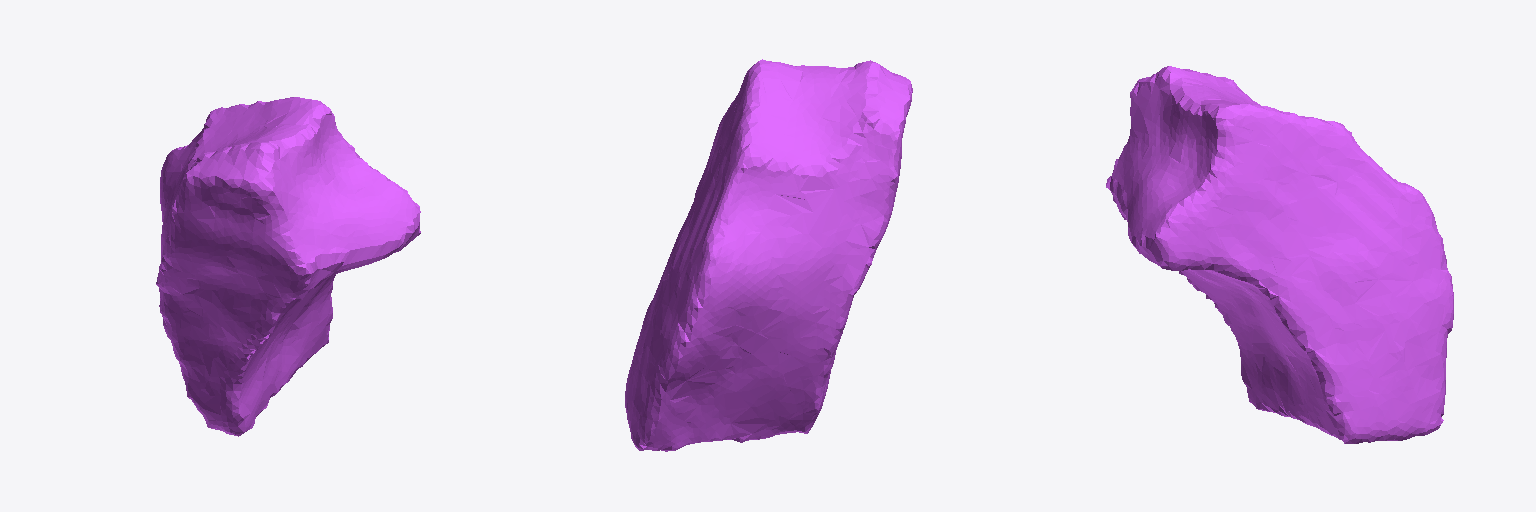
File: Model_128_RH__Temporal_area_TE1_(TE1).obj
3 views of the same model, side by side, from view 1: azimuth 30°, elevation 25°; view 2: azimuth 150°, elevation 25°; view 3: azimuth 270°, elevation 25° (orthographic).
Bounding box in the file's own units: 2.7 × 4.01 × 3.81.